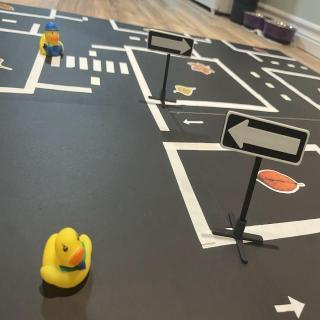duck_regular: (39, 227, 95, 291)
duck_specialty: (39, 20, 67, 58)
road_crosswalk: (50, 53, 133, 76)
road_oneway: (274, 293, 308, 320), (182, 118, 206, 128)
sign_oneway_left: (221, 113, 310, 167)
sign_oneway_right: (148, 30, 197, 60)
